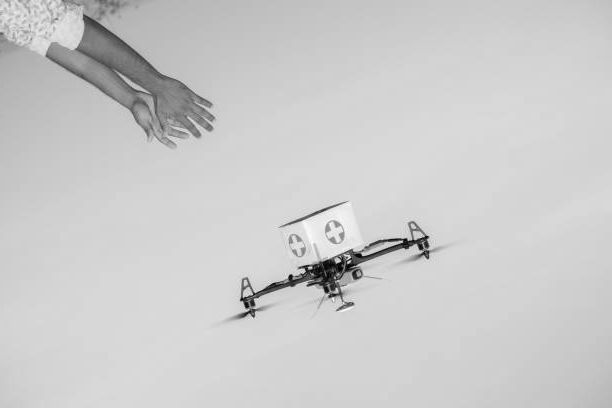Drone: (215, 220, 457, 319)
